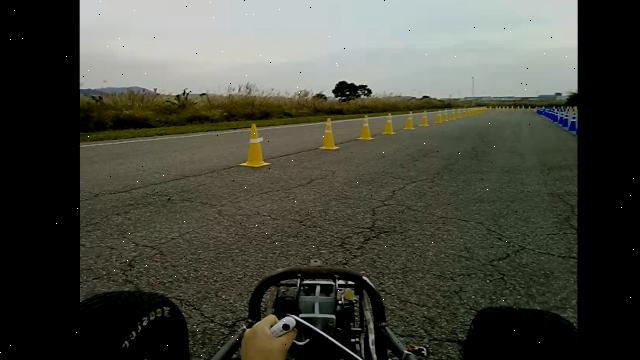yellow cone: (239, 122, 272, 167), (318, 116, 340, 150), (358, 113, 375, 140), (382, 112, 397, 134), (418, 109, 430, 127), (403, 115, 416, 130), (434, 112, 443, 124), (456, 108, 464, 119), (442, 111, 449, 121), (449, 111, 456, 120)
